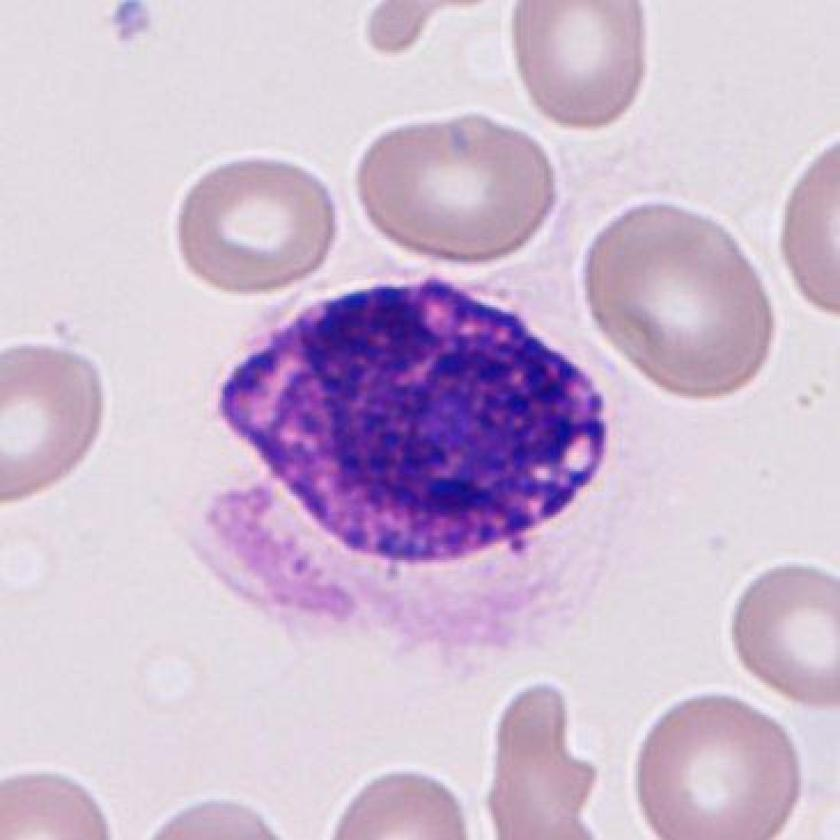basophil: (208, 272, 616, 577)
